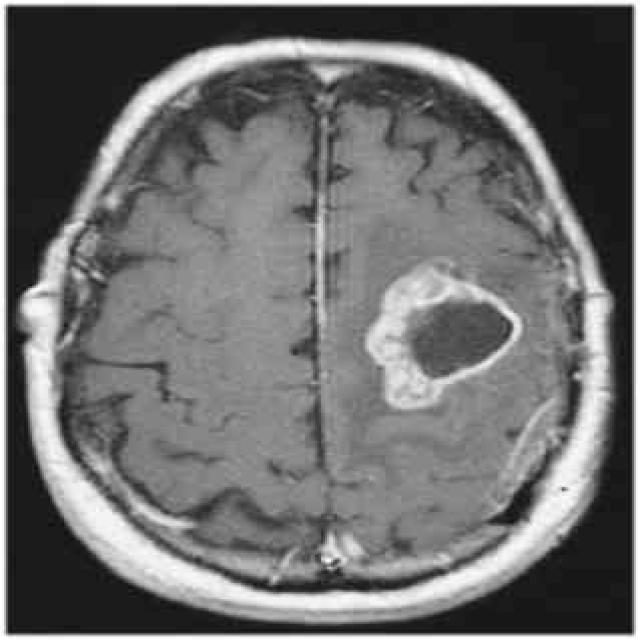tumor: (364, 259, 514, 396)
